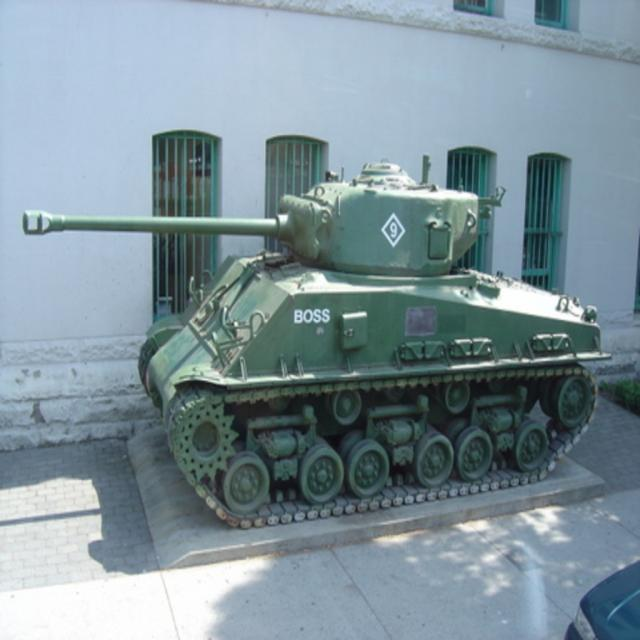tank: (24, 153, 609, 531)
